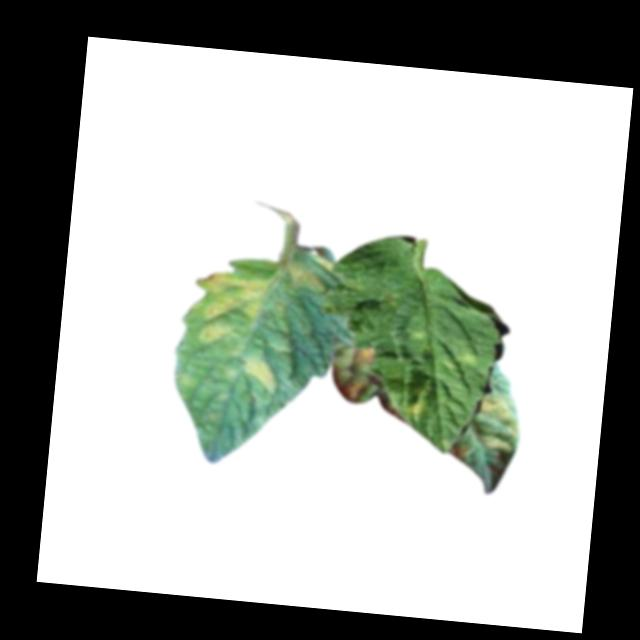Leaf_Mold: (188, 264, 279, 352), (328, 342, 385, 406), (470, 392, 524, 454), (284, 260, 335, 299), (240, 353, 283, 397), (398, 378, 437, 423)
